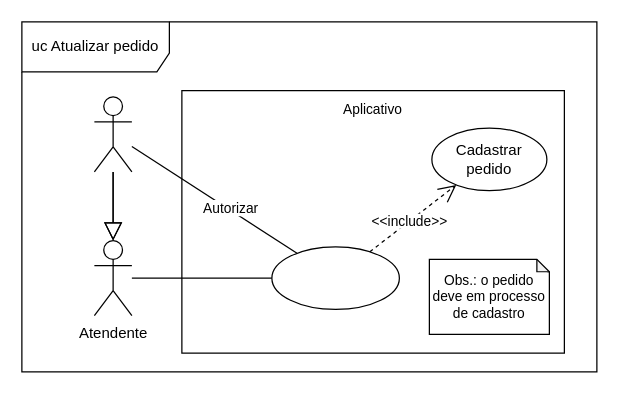
This 619x394 diagram has some shape labels left out. Here are the shapes that lost their labels. From the top down, the box of each, then its label:
(93, 96, 132, 172): Administrador
(271, 246, 399, 309): Atualizar pedido
